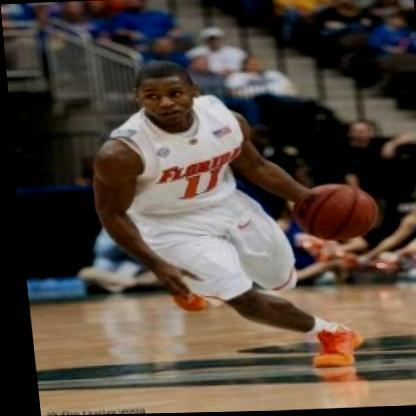basketball: (282, 180, 379, 246)
